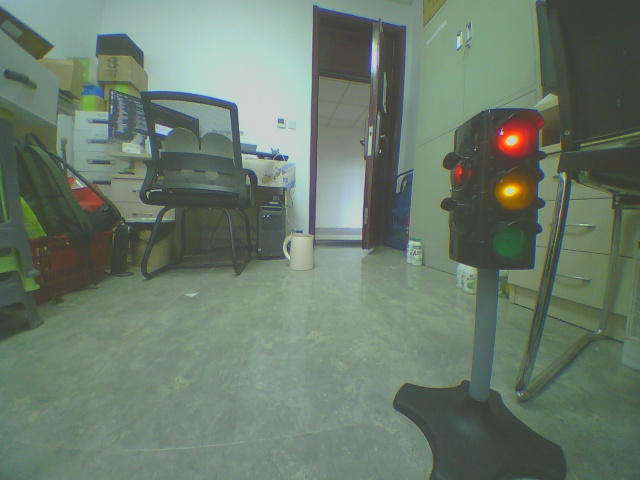Red_Yellow: (443, 100, 565, 286)
